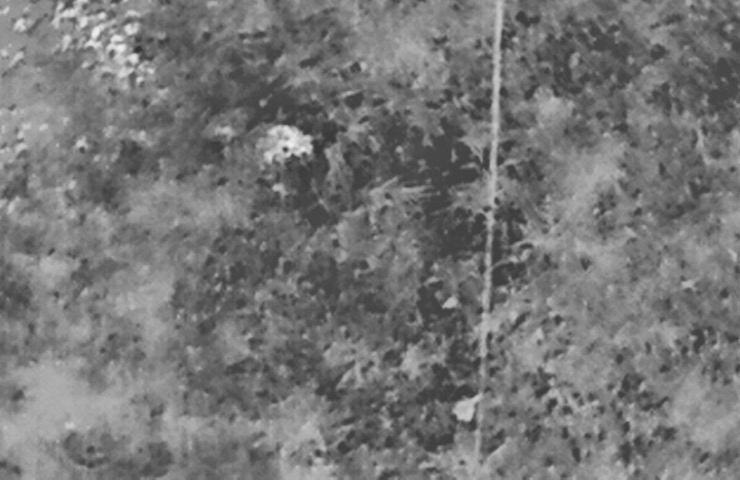landmines: (259, 122, 316, 174)
